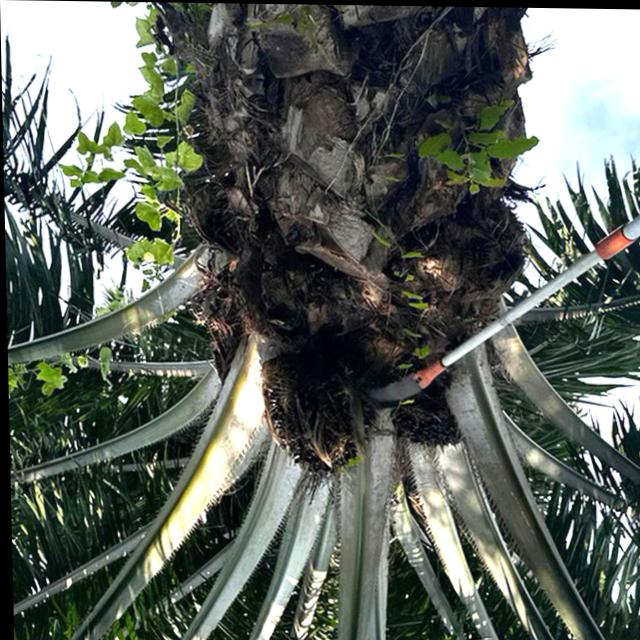unripe: (256, 347, 354, 482), (389, 396, 459, 451)
